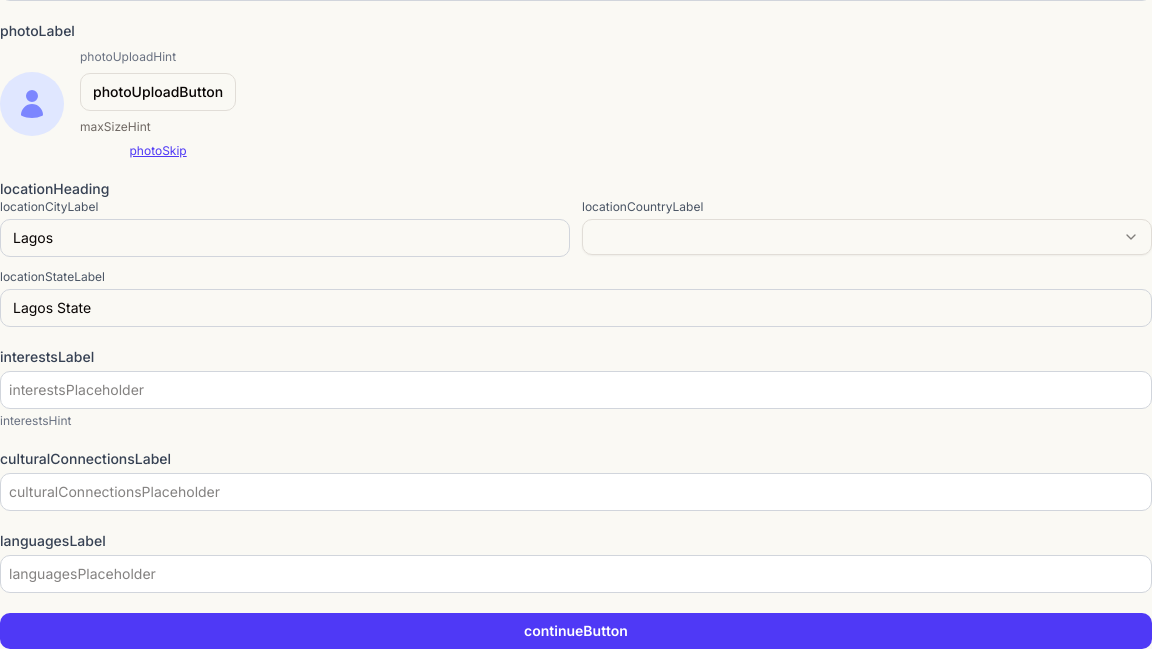
it: ProfileStep › shows error when display name is empty on submit
(page scrolled)
Click the button "continueButton": coordinates (576, 631) [0, 613, 1151, 648]
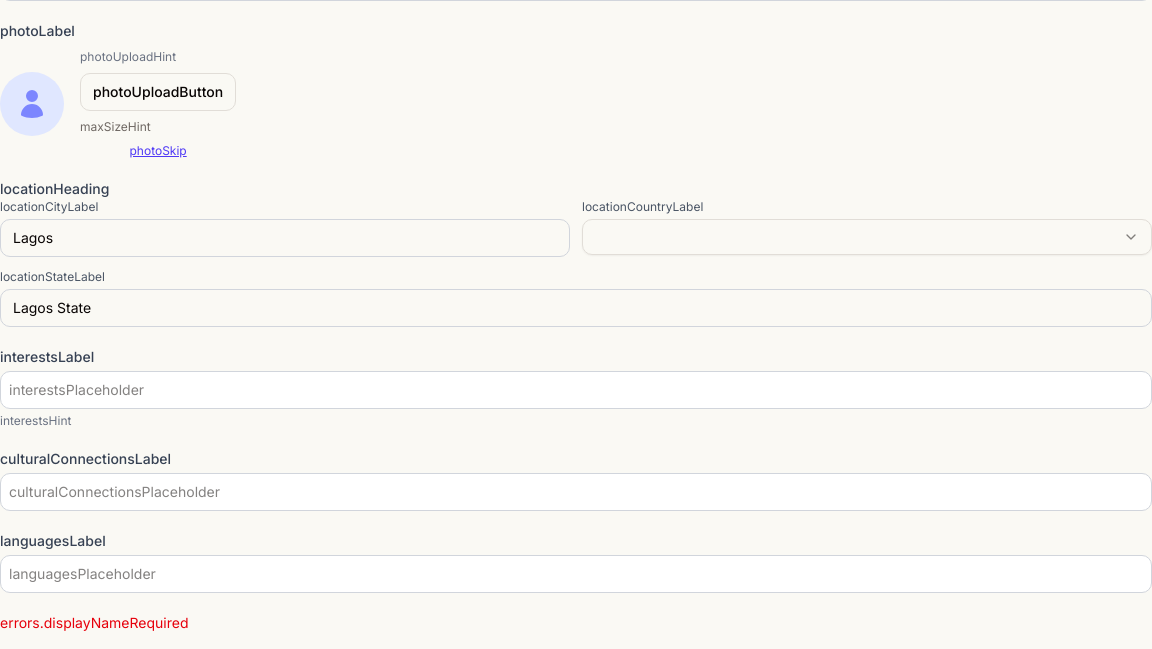
Check: the message reads "errors.displayNameRequired", box [0, 614, 188, 631]
